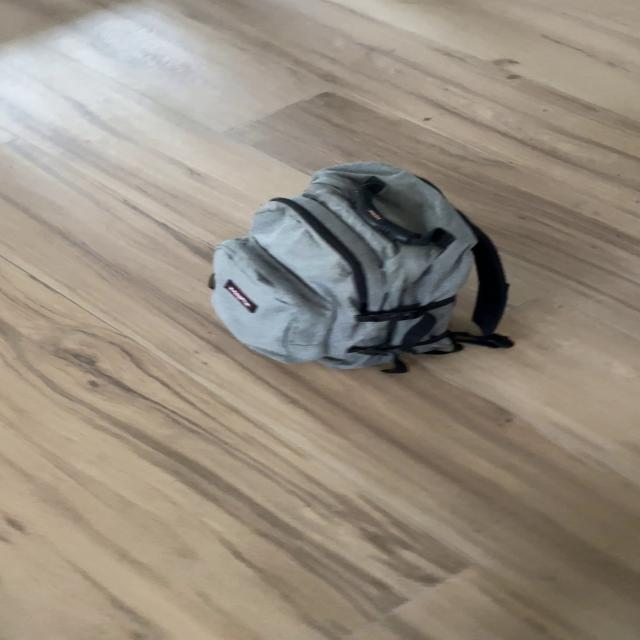backpack: (192, 155, 520, 377)
